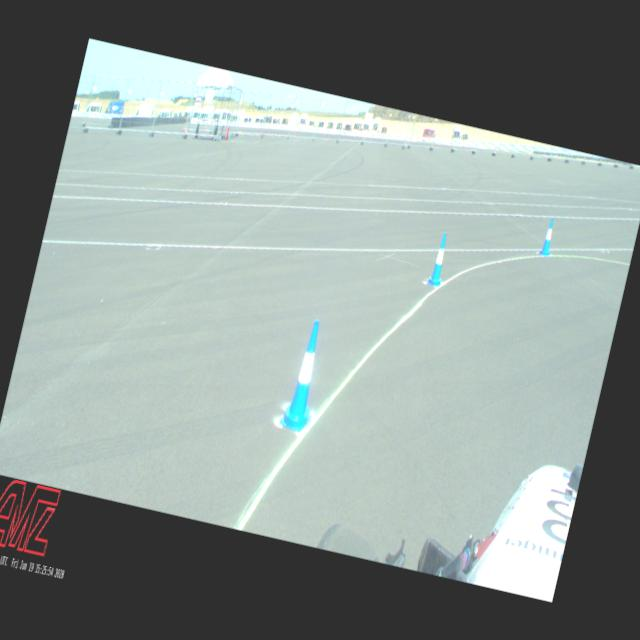blue_cone: (278, 317, 332, 434), (427, 231, 452, 287), (538, 216, 558, 256)
